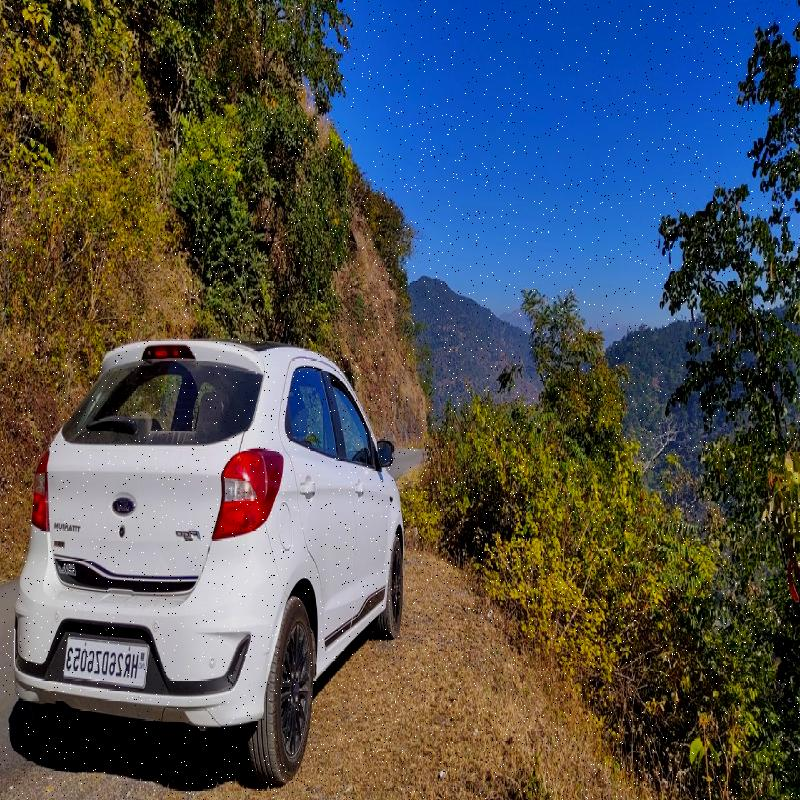car: (0, 343, 427, 750)
